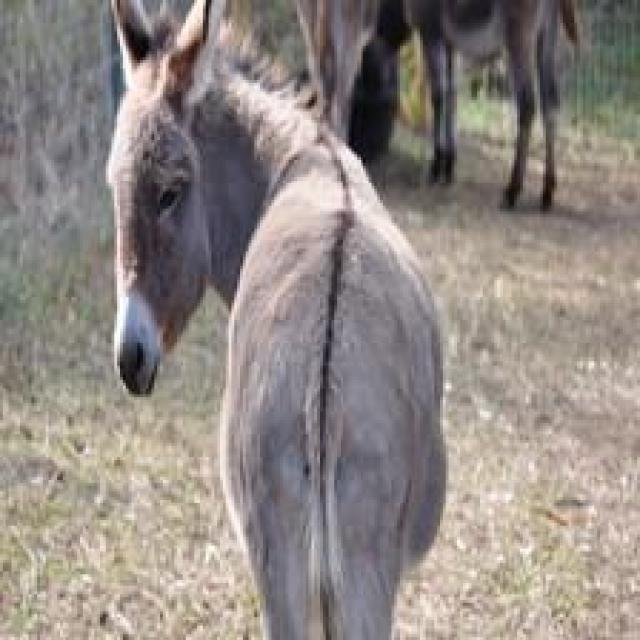Donkey: (103, 0, 448, 637), (391, 0, 582, 211), (280, 0, 403, 157)
